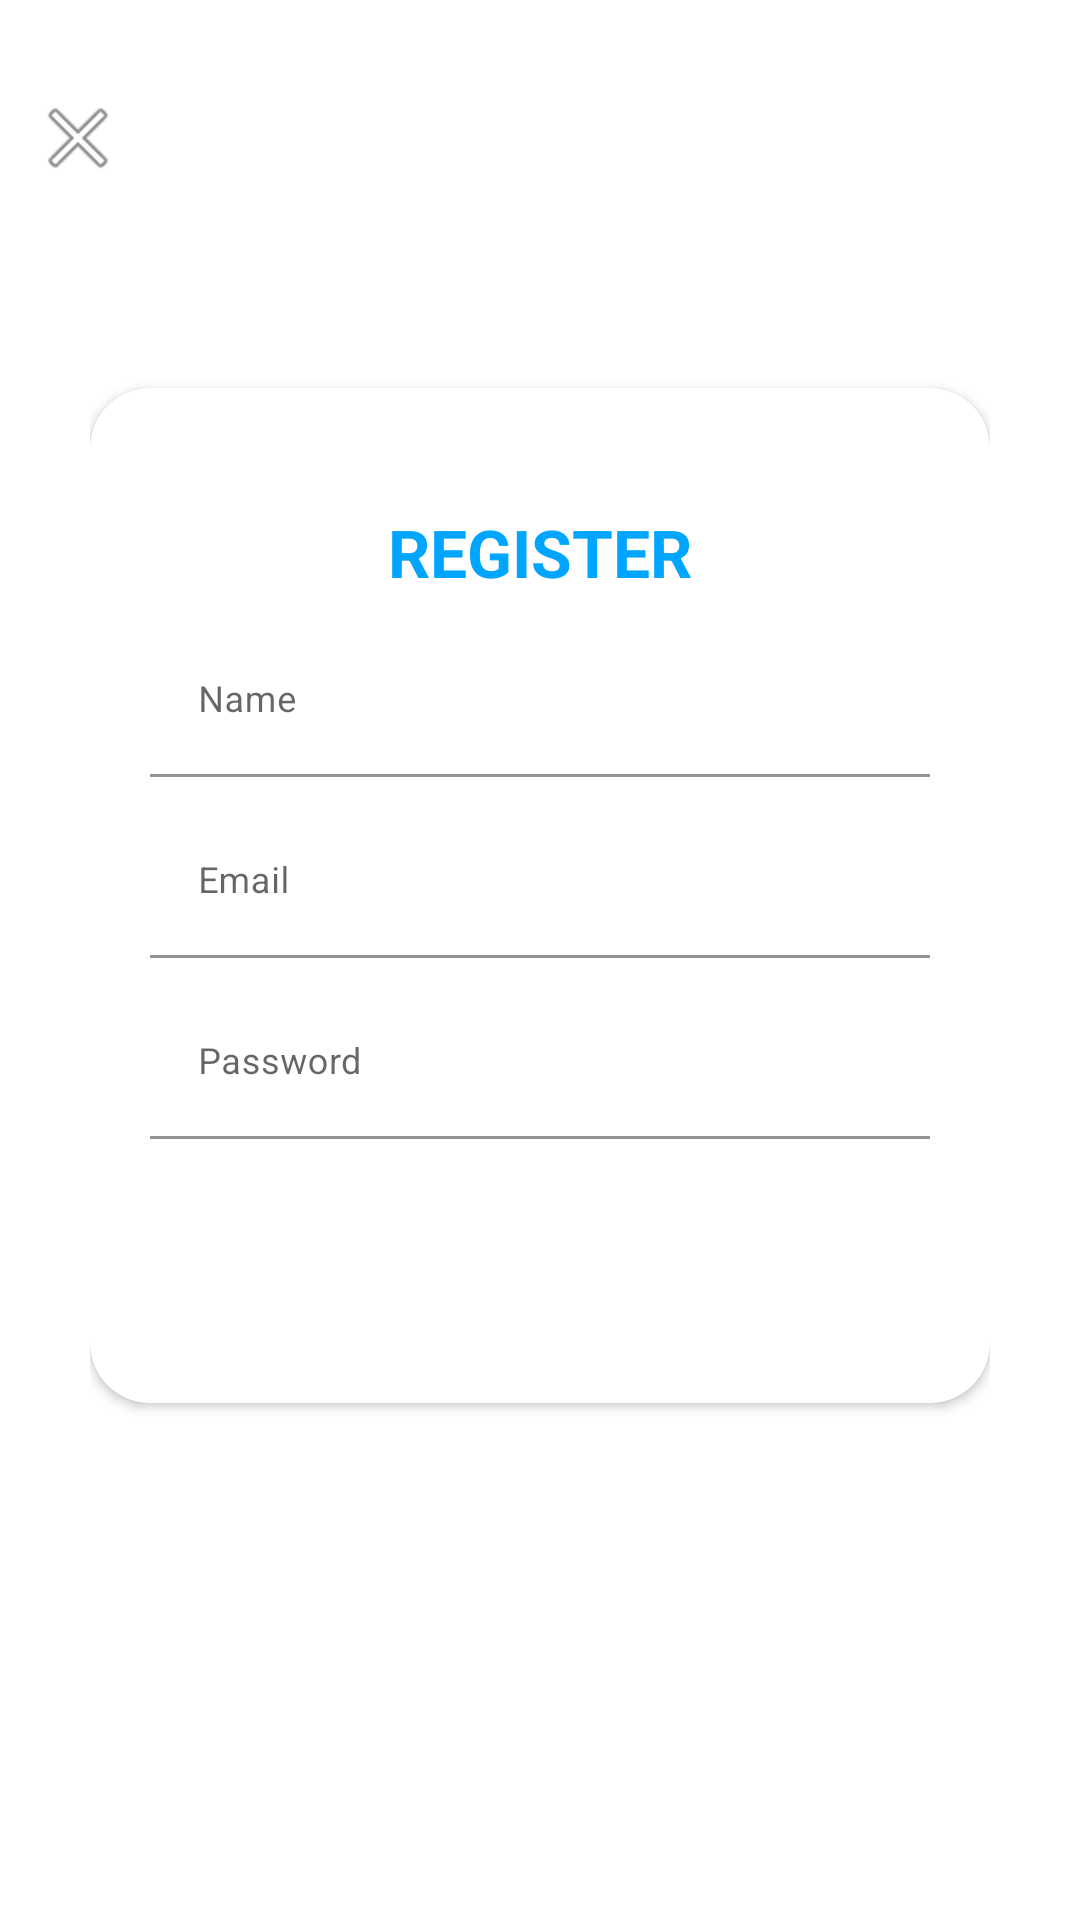

Icon click points for this 1080px×1920px phone screenshot, format point (x, y):
close clear cancel: point (78, 138)
